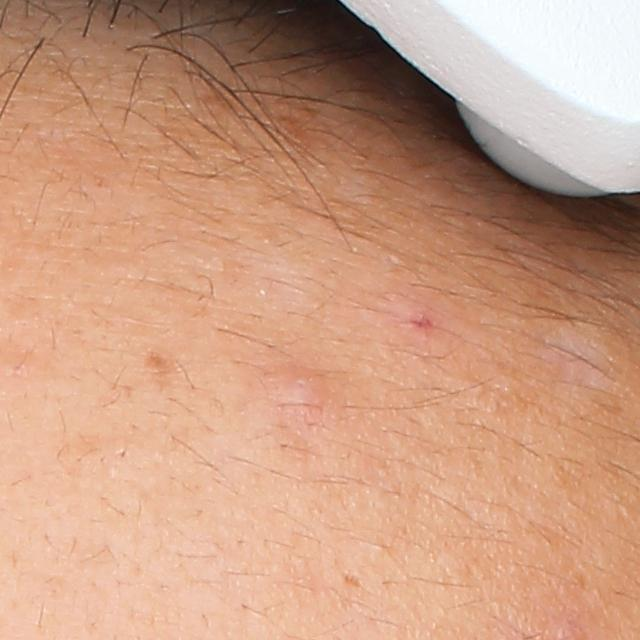papule: (280, 368, 330, 422)
